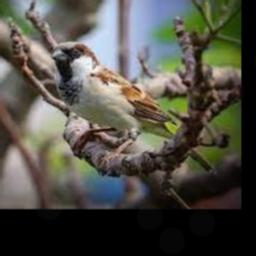Sparrow: (51, 40, 176, 163)
